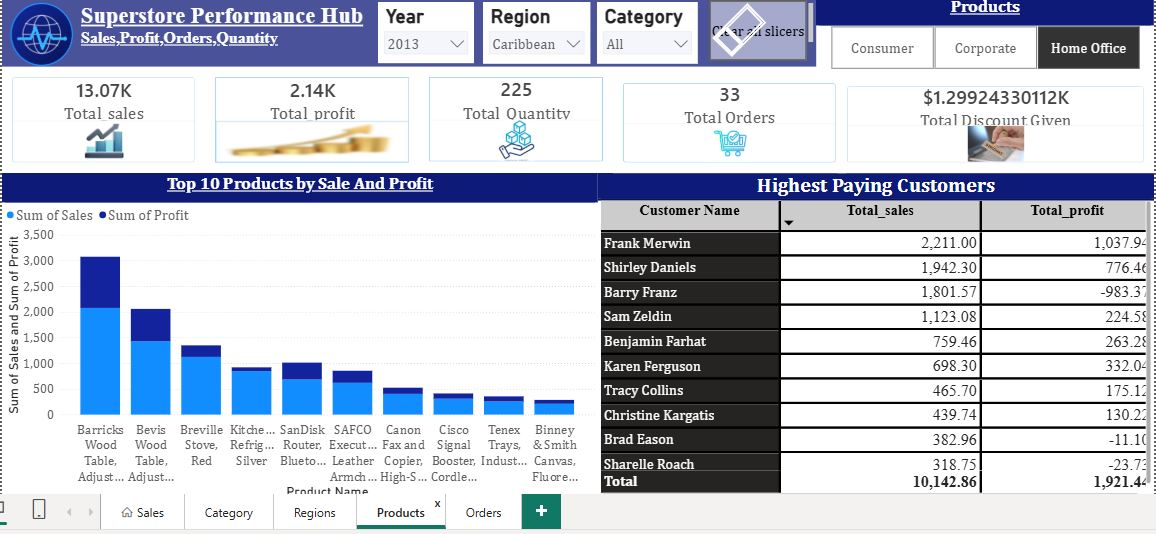

What the dashboard file says about the page in this screenshot:
{"tool":"powerbi","page":{"name":"Products","canvas":[1920,1080],"ordinal":3},"visuals":[{"type":"pivotTable","title":"Highest Paying Customers","fields":{"Rows":["Orders.Customer Name"],"Values":["Profit-measures.Total_sales","Profit-measures.Total_profit"]},"box":[993.3,295,926.7,546.7],"z":0},{"type":"columnChart","title":"Top 10 Products by Sale And Profit","fields":{"Category":["Orders.Product Name"],"Y":["Sum(Orders.Sales)","Sum(Orders.Profit)"]},"box":[0,295,993.3,546.7],"z":1000},{"type":"slicer","title":"Products","fields":{"Values":["Orders.Segment"]},"box":[1356.7,0,563.3,128.3],"z":6000},{"type":"textbox","title":"Superstore Performance Hub","box":[0,6.3,1357.1,111.1],"z":7000},{"type":"image","box":[6.3,9.5,119,107.9],"z":8000},{"type":"slicer","fields":{"Values":["Custom_Calender.Date.Variation.Date Hierarchy.Year"]},"box":[627,9.5,160.3,101.6],"z":9000},{"type":"slicer","fields":{"Values":["Orders.Category"]},"box":[992.1,9.5,168.3,103.2],"z":10000},{"type":"slicer","fields":{"Values":["Orders.Region"]},"box":[801.6,9.5,179.4,103.2],"z":11000},{"type":"actionButton","box":[1177.8,6.3,163.5,101.6],"z":12000},{"type":"cardVisual","fields":{"Data":["Profit-measures.Total Discount Given"]},"box":[1391.7,133.3,528.3,161.7],"z":12001},{"type":"cardVisual","fields":{"Data":["Profit-measures.Total_sales"]},"box":[0,119,338.1,176.2],"z":12002},{"type":"cardVisual","fields":{"Data":["Profit-measures.Totl_qunatity"]},"box":[695.2,119,323.8,174.6],"z":12003},{"type":"cardVisual","fields":{"Data":["Profit-measures.Total Orders"]},"box":[1018.3,128.3,388.3,166.7],"z":12004},{"type":"cardVisual","fields":{"Data":["Profit-measures.Total_profit"]},"box":[338.1,119,357.1,176.2],"z":12005}]}

Visuals, with their boxes on the page's 1920x1080 design canvas (x1, y1, x2, y2). These are canvas units, not pixel positions in the 1156x534 screenshot, which may show the page scaled, cropped or inside an application window:
"Highest Paying Customers" pivotTable: bbox=[993, 295, 1920, 842]
"Top 10 Products by Sale And Profit" columnChart: bbox=[0, 295, 993, 842]
"Products" slicer: bbox=[1357, 0, 1920, 128]
"Superstore Performance Hub" textbox: bbox=[0, 6, 1357, 117]
image: bbox=[6, 10, 125, 117]
slicer - Custom_Calender.Date.Variation.Date Hierarchy.Year: bbox=[627, 10, 787, 111]
slicer - Orders.Category: bbox=[992, 10, 1160, 113]
slicer - Orders.Region: bbox=[802, 10, 981, 113]
actionButton: bbox=[1178, 6, 1341, 108]
cardVisual - Profit-measures.Total Discount Given: bbox=[1392, 133, 1920, 295]
cardVisual - Profit-measures.Total_sales: bbox=[0, 119, 338, 295]
cardVisual - Profit-measures.Totl_qunatity: bbox=[695, 119, 1019, 294]
cardVisual - Profit-measures.Total Orders: bbox=[1018, 128, 1407, 295]
cardVisual - Profit-measures.Total_profit: bbox=[338, 119, 695, 295]
